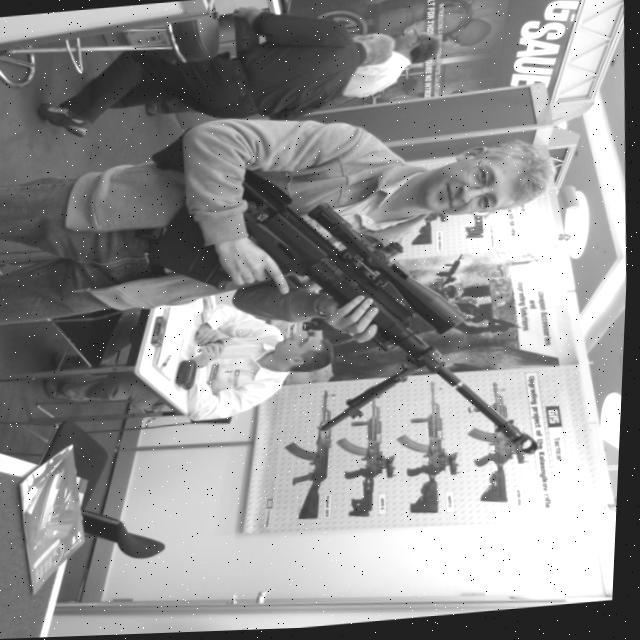firearm: (247, 178, 554, 481), (399, 384, 469, 520), (465, 384, 536, 506), (280, 391, 342, 523), (338, 403, 405, 522)
